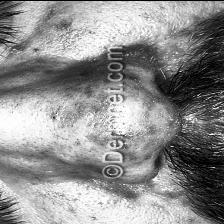Non-Cancerous Skin Condition: (41, 48, 166, 196)
